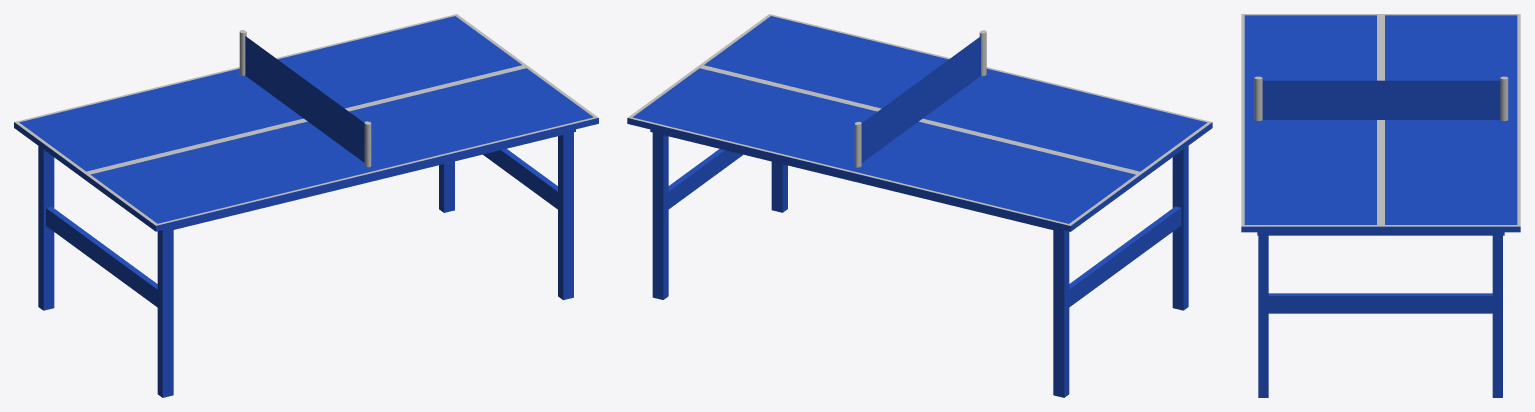
File: Pingpong table_l 1.fbx
3 renders of one model, left to right at view 1: azimuth 30°, elevation 25°; view 2: azimuth 150°, elevation 25°; view 3: azimuth 270°, elevation 25°, orthographic.
Visible parts, largest first — view 1: pingpong001.003; view 2: pingpong001.003; view 3: pingpong001.003.
Boxes of the visible parts, bbox=[...] form: pingpong001.003: bbox=[14, 14, 598, 397]; pingpong001.003: bbox=[627, 14, 1212, 397]; pingpong001.003: bbox=[1241, 14, 1520, 397].
Bounding box in the file's own units: 295 × 164 × 143.
